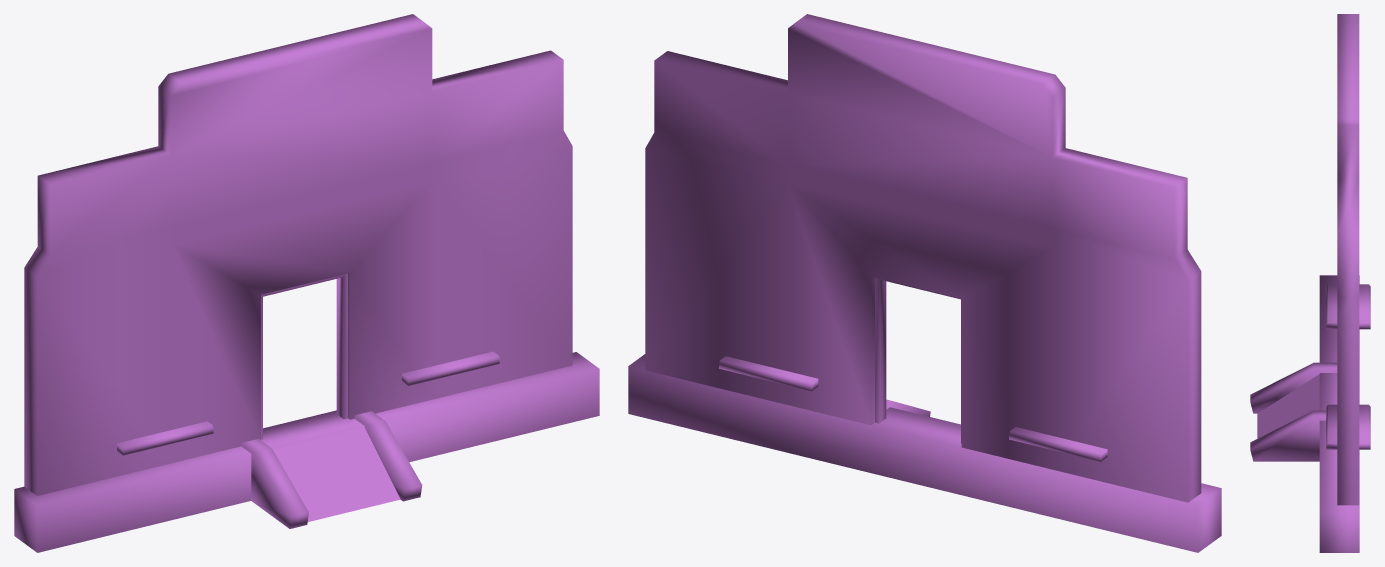
Rendered from IndBuilding2_End_A_COL.fbx.
3 renders of one model, left to right at view 1: azimuth 30°, elevation 25°; view 2: azimuth 150°, elevation 25°; view 3: azimuth 270°, elevation 25°, orthographic. The views are drawn at different scales.
Parts seen in each view (by area): view 1: IndBuilding2_End_A_COL; view 2: IndBuilding2_End_A_COL; view 3: IndBuilding2_End_A_COL.
Part boxes in pixels (x1,y1,x2,y2): IndBuilding2_End_A_COL: [14, 14, 599, 552]; IndBuilding2_End_A_COL: [628, 14, 1221, 552]; IndBuilding2_End_A_COL: [1250, 14, 1370, 552].
Bounding box in the file's own units: 12.6 × 9.1 × 2.71.
